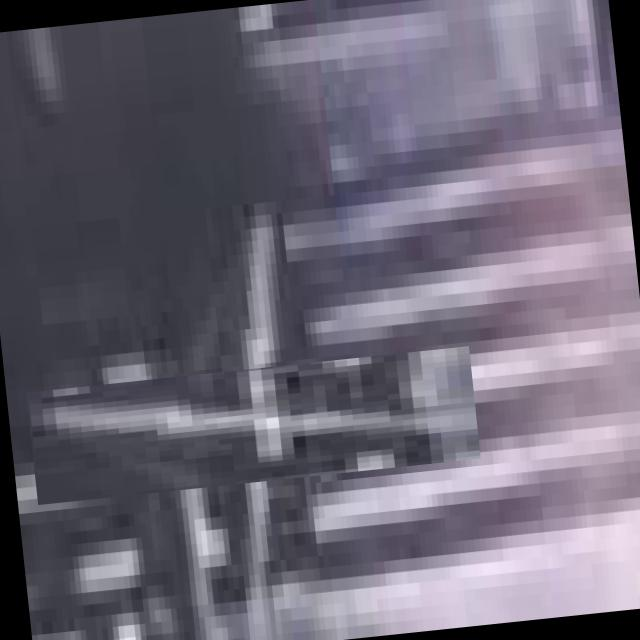stick: (100, 272, 407, 578)
